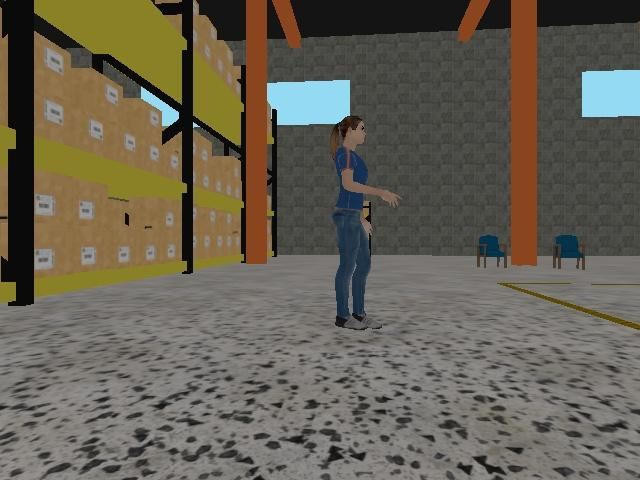chair: (552, 235, 586, 270), (477, 235, 508, 268)
person: (329, 115, 403, 330)
